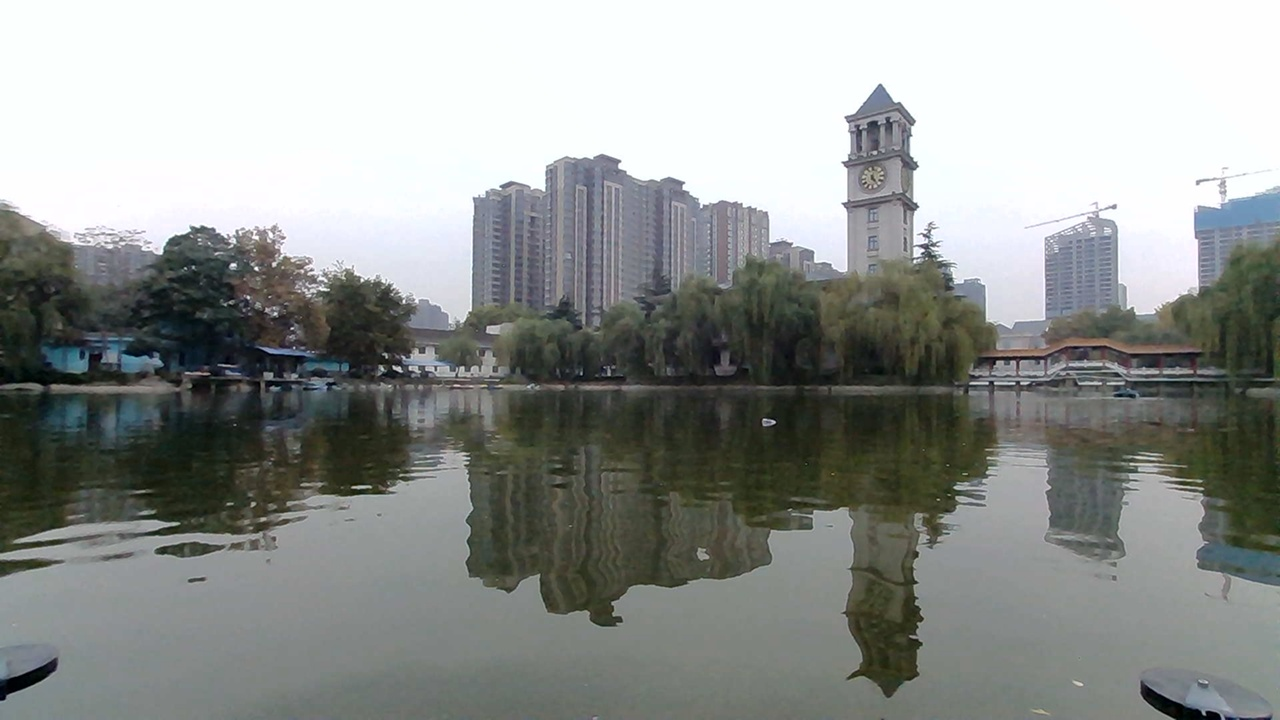bottle: (742, 405, 781, 435)
